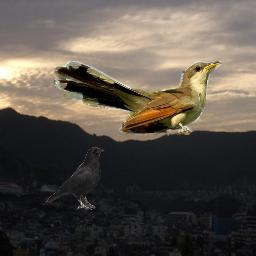Crow: (46, 146, 105, 210)
Cuckoo: (54, 61, 222, 135)
